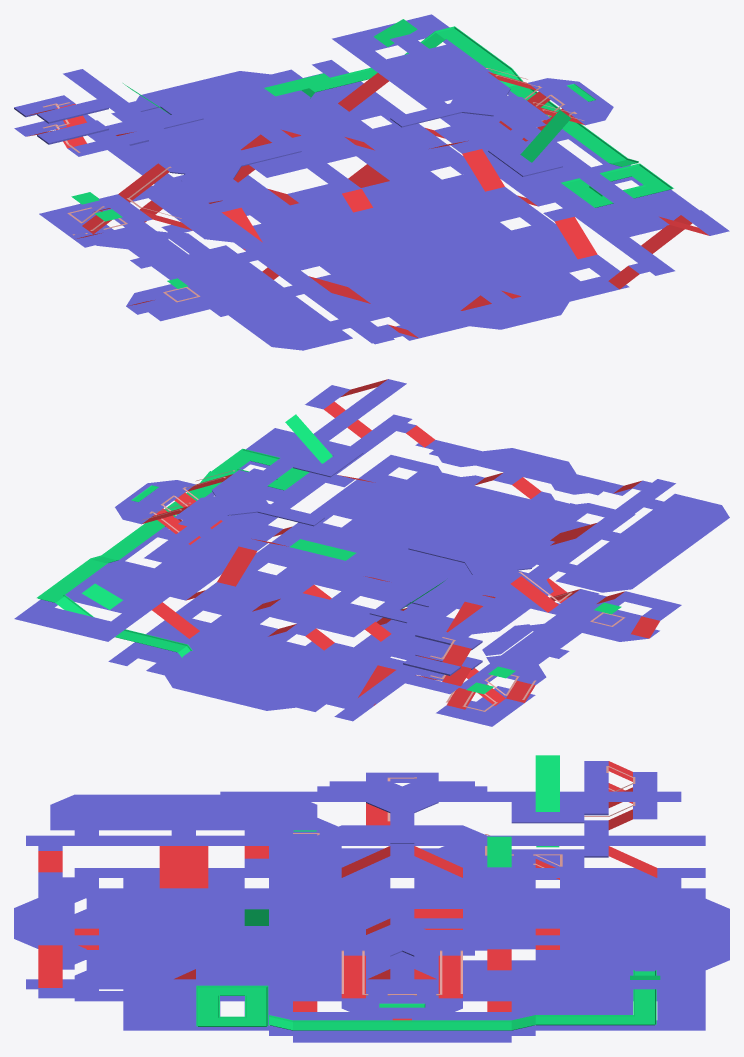
The model's file is Arena_002_Floor.fbx.
3 views of the same model, one above another, from view 1: azimuth 30°, elevation 25°; view 2: azimuth 150°, elevation 25°; view 3: azimuth 270°, elevation 25° (orthographic). The views are drawn at different scales.
Parts seen in each view (by area): view 1: Arena_002_Floor; view 2: Arena_002_Floor; view 3: Arena_002_Floor.
Boxes of the visible parts, left/top/right/bottom form: Arena_002_Floor: left=14, top=14, right=729, bottom=350; Arena_002_Floor: left=14, top=379, right=729, bottom=726; Arena_002_Floor: left=14, top=755, right=729, bottom=1042.
Bounding box in the file's own units: 10200 × 2359 × 11800.
